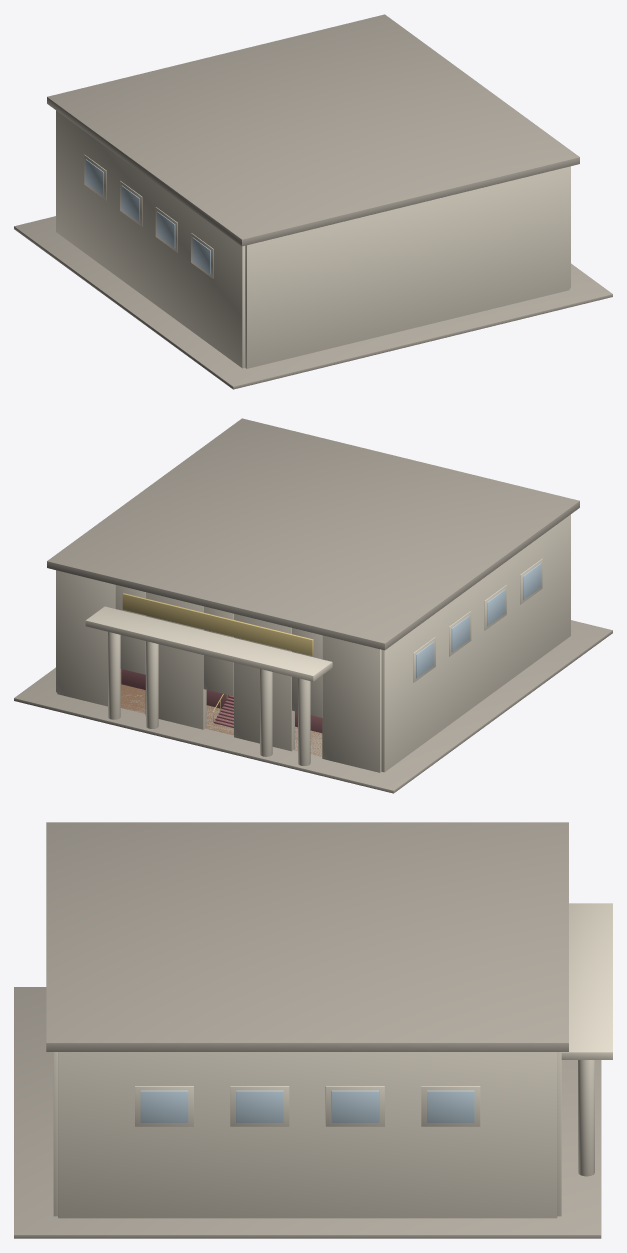
The model's file is th12_theater.glb.
3 renders of one model, top to bottom at view 1: azimuth 30°, elevation 25°; view 2: azimuth 150°, elevation 25°; view 3: azimuth 270°, elevation 25°, orthographic. The views are drawn at different scales.
Visible parts, largest first — view 1: Cube.030, Cube.009, Cube.010, Cube; view 2: Cube.030, Cube.010, Cube, Cube.002, Cube.005, Cube.031, Cube.004, Cube.003, Cube.032, Cube.001, Cube.007, Cube.008 (+6 smaller); view 3: Cube.030, Cube.020, Cube, Cube.031, Cylinder.006, Cube.022, Cube.026, Cube.024, Cube.028, Cube.023, Cube.027, Cube.025 (+3 smaller).
Boxes of the visible parts, x1=… form: Cube.030: x1=47, y1=14, x2=579, y2=246; Cube.009: x1=245, y1=166, x2=569, y2=368; Cube.010: x1=56, y1=110, x2=245, y2=368; Cube: x1=14, y1=216, x2=612, y2=389; Cube.030: x1=47, y1=418, x2=579, y2=650; Cube.010: x1=381, y1=514, x2=570, y2=772; Cube: x1=14, y1=620, x2=612, y2=793; Cube.002: x1=322, y1=635, x2=381, y2=772; Cube.005: x1=57, y1=570, x2=115, y2=706; Cube.031: x1=85, y1=606, x2=332, y2=681; Cube.004: x1=145, y1=592, x2=206, y2=729; Cube.003: x1=234, y1=613, x2=294, y2=751; Cube.032: x1=122, y1=593, x2=313, y2=655; Cube.001: x1=120, y1=669, x2=322, y2=756; Cube.007: x1=203, y1=606, x2=233, y2=696; Cube.008: x1=115, y1=585, x2=145, y2=674; Cube.030: x1=46, y1=822, x2=568, y2=1051; Cube.020: x1=58, y1=1052, x2=557, y2=1218; Cube: x1=14, y1=987, x2=601, y2=1238; Cube.031: x1=561, y1=903, x2=612, y2=1059; Cylinder.006: x1=578, y1=1060, x2=594, y2=1176; Cube.022: x1=140, y1=1090, x2=188, y2=1122; Cube.026: x1=331, y1=1090, x2=379, y2=1122; Cube.024: x1=236, y1=1090, x2=283, y2=1122; Cube.028: x1=427, y1=1090, x2=474, y2=1122; Cube.023: x1=230, y1=1086, x2=289, y2=1126; Cube.027: x1=421, y1=1086, x2=480, y2=1126; Cube.025: x1=325, y1=1086, x2=384, y2=1126.
Size of the model in its own units: 40 by 13.7 by 40.8.
